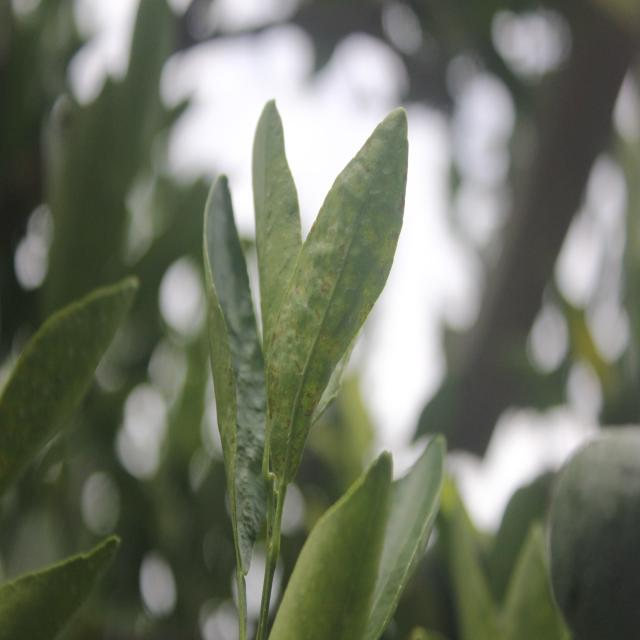canker: (267, 162, 398, 456)
